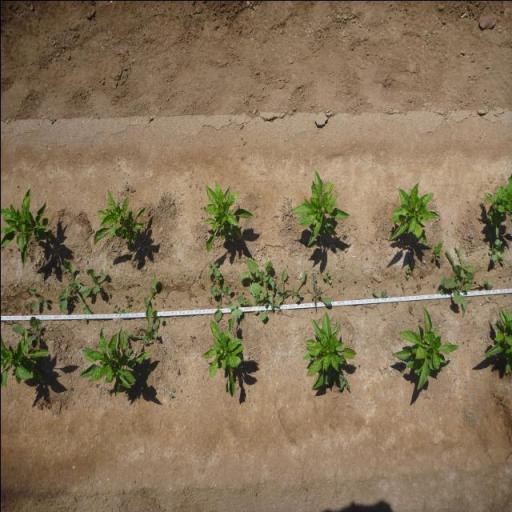plant: (390, 304, 460, 390), (77, 327, 148, 398), (288, 166, 349, 248), (299, 310, 358, 392), (0, 185, 54, 270), (202, 179, 256, 256), (92, 185, 148, 255), (200, 319, 244, 400), (387, 181, 442, 245), (0, 336, 47, 390), (481, 304, 512, 374), (485, 170, 512, 232)
weed: (52, 255, 92, 314), (442, 248, 474, 302), (240, 256, 276, 298), (124, 305, 156, 343), (208, 284, 240, 320), (308, 272, 333, 313), (11, 316, 45, 340), (284, 267, 306, 303), (83, 266, 107, 299), (238, 296, 267, 320), (486, 232, 506, 266), (274, 267, 289, 309), (323, 367, 350, 390), (25, 284, 48, 310), (142, 275, 159, 306), (204, 257, 222, 281), (430, 240, 444, 258), (480, 273, 492, 290), (152, 310, 162, 330), (370, 288, 387, 298), (111, 304, 128, 314), (496, 394, 508, 408), (322, 268, 332, 284), (22, 300, 32, 315), (125, 296, 133, 308), (198, 280, 205, 292), (434, 286, 444, 294), (415, 282, 422, 292), (404, 264, 411, 274), (207, 295, 213, 306), (340, 229, 346, 238), (364, 280, 370, 288), (189, 334, 195, 342), (340, 283, 346, 290), (105, 388, 111, 395), (80, 316, 86, 323), (419, 271, 424, 279), (400, 280, 404, 290), (394, 301, 398, 308), (504, 292, 507, 298), (488, 296, 492, 300), (108, 290, 110, 298), (394, 282, 398, 286), (502, 278, 506, 281), (68, 386, 71, 390), (509, 275, 511, 280), (414, 289, 416, 293)
